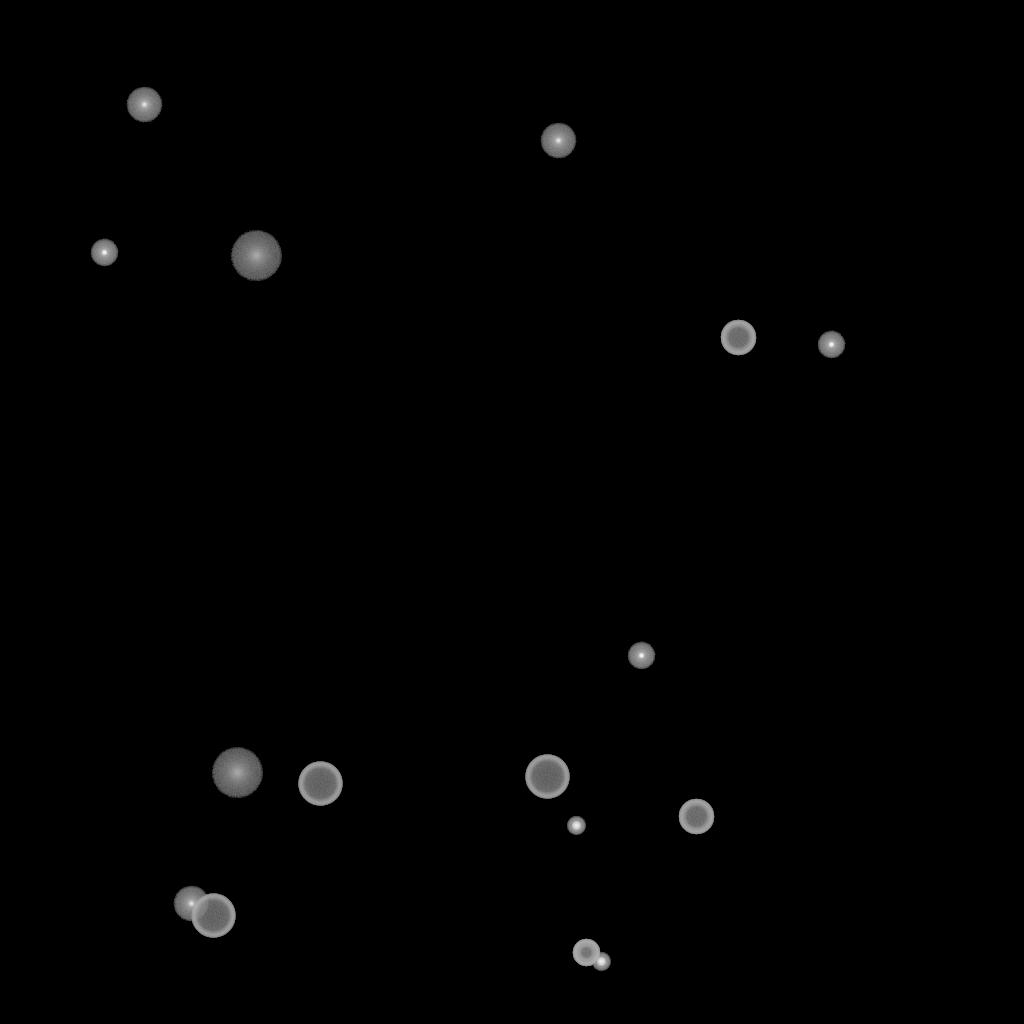depth:-10: (90, 239, 118, 267), (817, 331, 845, 359), (627, 642, 655, 670)
depth:-20: (567, 817, 585, 835), (592, 953, 610, 971)
depth:-50: (572, 939, 600, 967)
depth:-60: (678, 799, 714, 835), (720, 320, 756, 356)
depth:-70: (525, 755, 569, 799), (298, 762, 342, 806), (191, 894, 235, 938)
depth:0: (173, 886, 209, 922), (540, 123, 576, 159), (126, 87, 162, 123)
depth:20: (211, 748, 263, 798), (230, 231, 282, 281)
